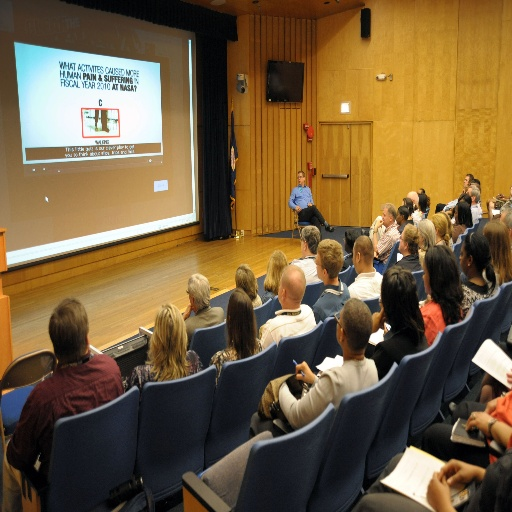hand: (434, 456, 477, 486), (424, 468, 451, 511), (465, 411, 492, 437), (294, 356, 314, 383), (370, 307, 386, 334), (181, 301, 192, 318), (373, 217, 384, 229), (505, 367, 511, 383), (495, 190, 503, 198), (294, 204, 301, 212), (460, 187, 466, 196), (306, 200, 312, 207), (499, 196, 505, 202)
